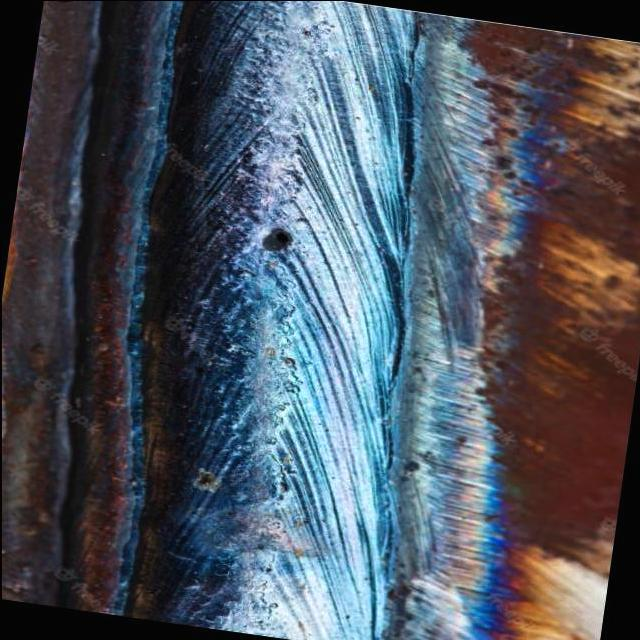defect: (253, 220, 296, 258)
